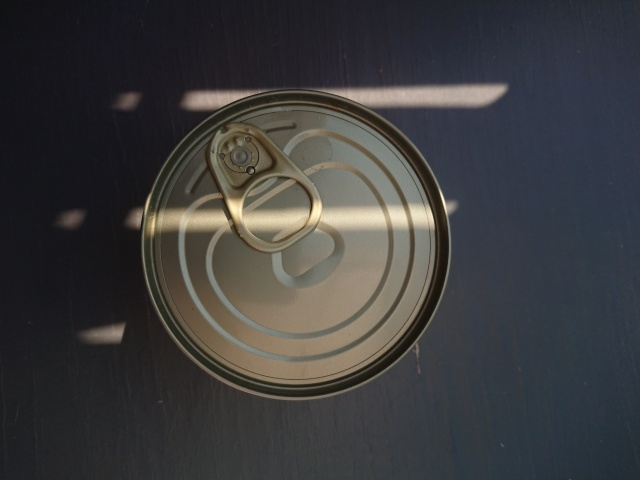Gavrilovic Pork Liver Pate 100g: (135, 83, 456, 405)
